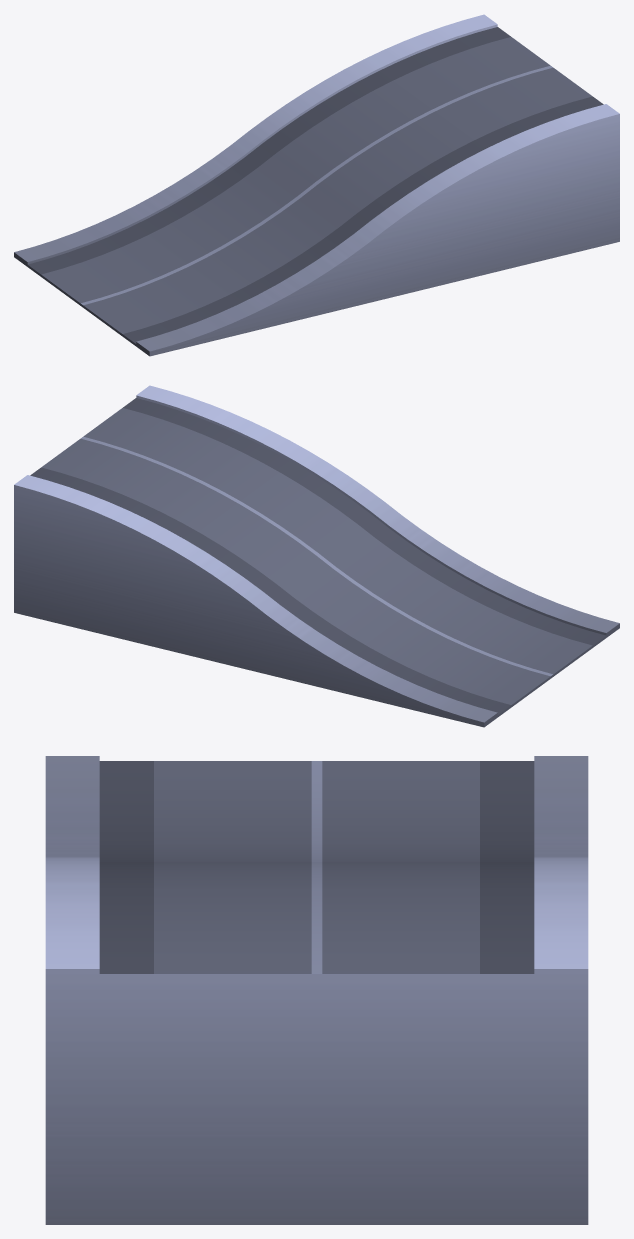
File: road-slant-curve.fbx
The picture shows the model from 3 angles, top to bottom: view 1: azimuth 30°, elevation 25°; view 2: azimuth 150°, elevation 25°; view 3: azimuth 270°, elevation 25°; orthographic projection. The views are drawn at different scales.
Visible parts, largest first — view 1: road-slant-curve; view 2: road-slant-curve; view 3: road-slant-curve.
Boxes of the visible parts, bbox=[...] form: road-slant-curve: bbox=[14, 14, 619, 356]; road-slant-curve: bbox=[14, 385, 619, 727]; road-slant-curve: bbox=[45, 756, 588, 1224].
Bounding box in the file's own units: 200 × 52 × 100.
